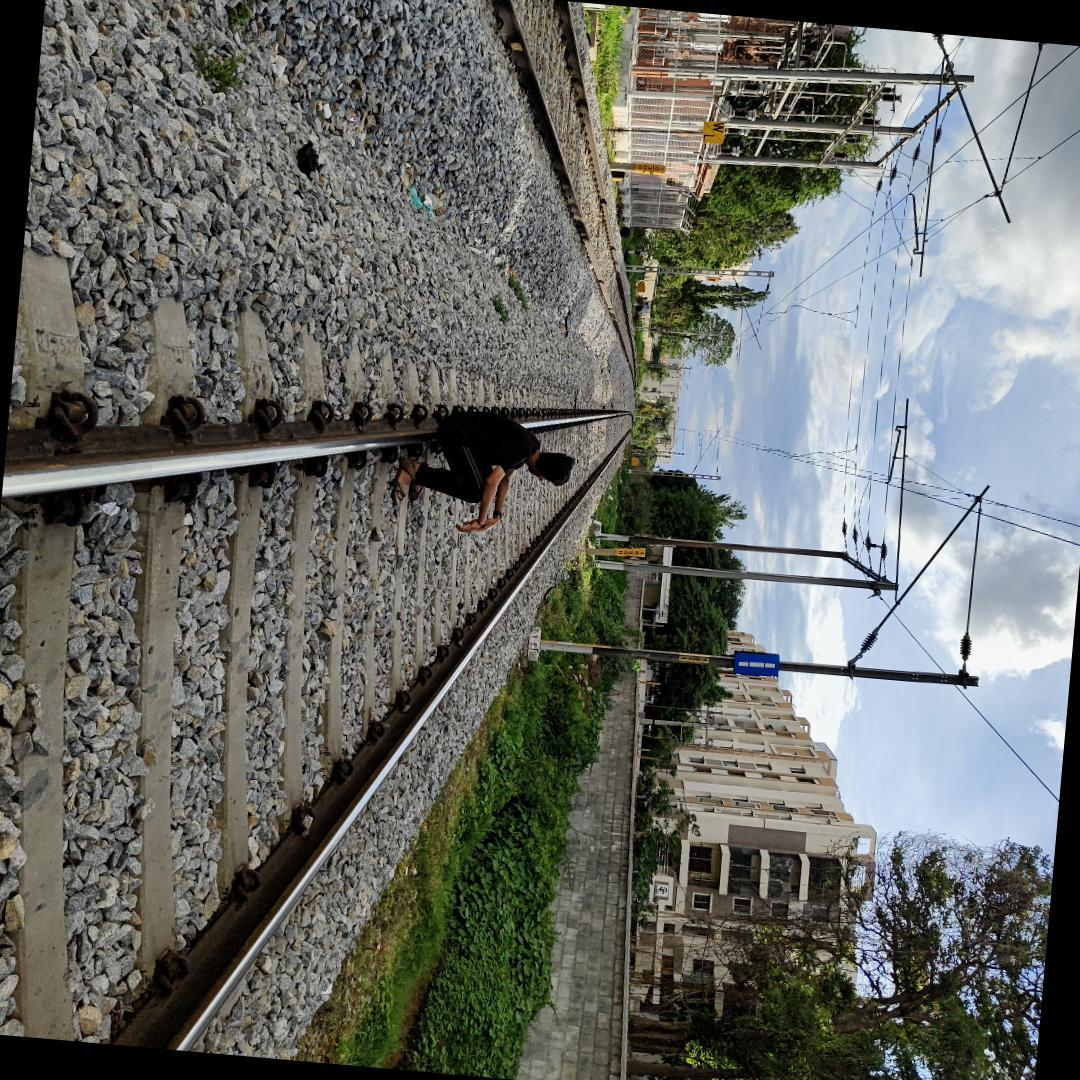sitting: (394, 389, 592, 540)
